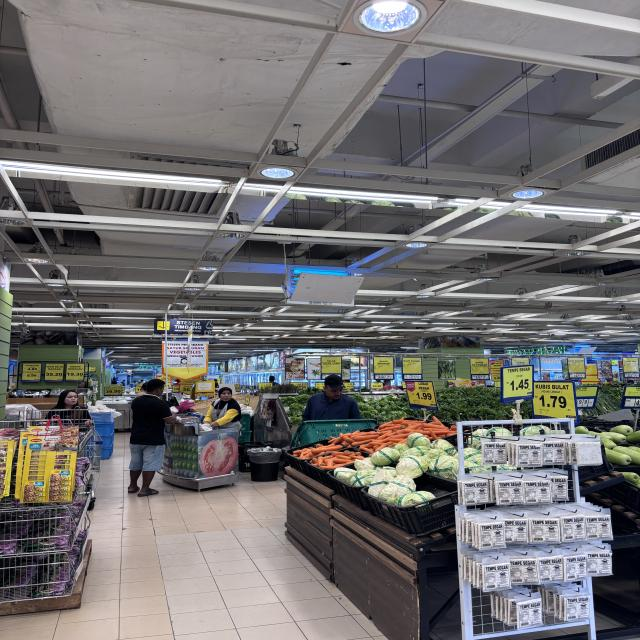Person: (123, 376, 172, 504), (300, 371, 365, 432), (46, 387, 93, 429), (203, 385, 245, 429)
